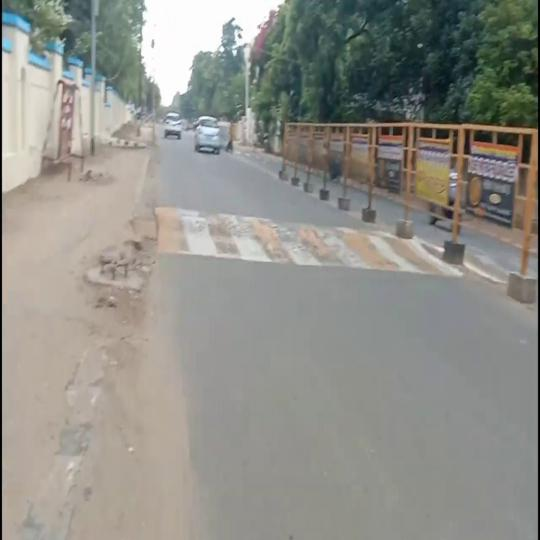Speed Bump: (156, 210, 362, 268), (465, 243, 509, 283), (399, 235, 443, 273), (362, 228, 397, 271)
